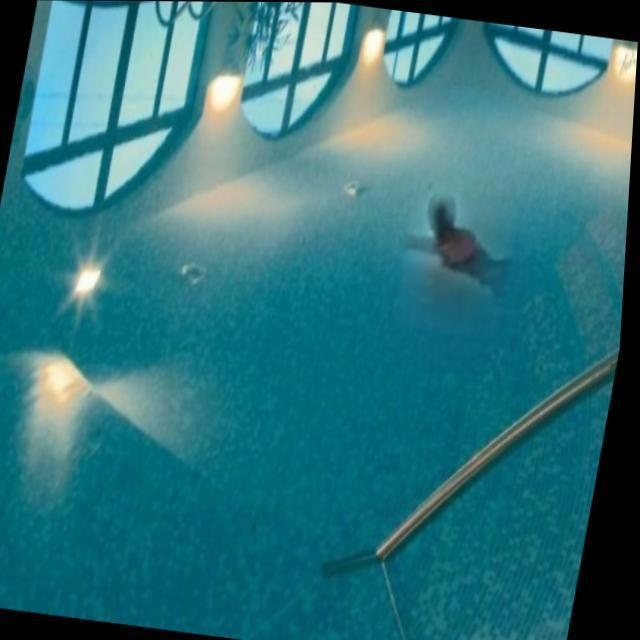swimming: (386, 179, 546, 323)
